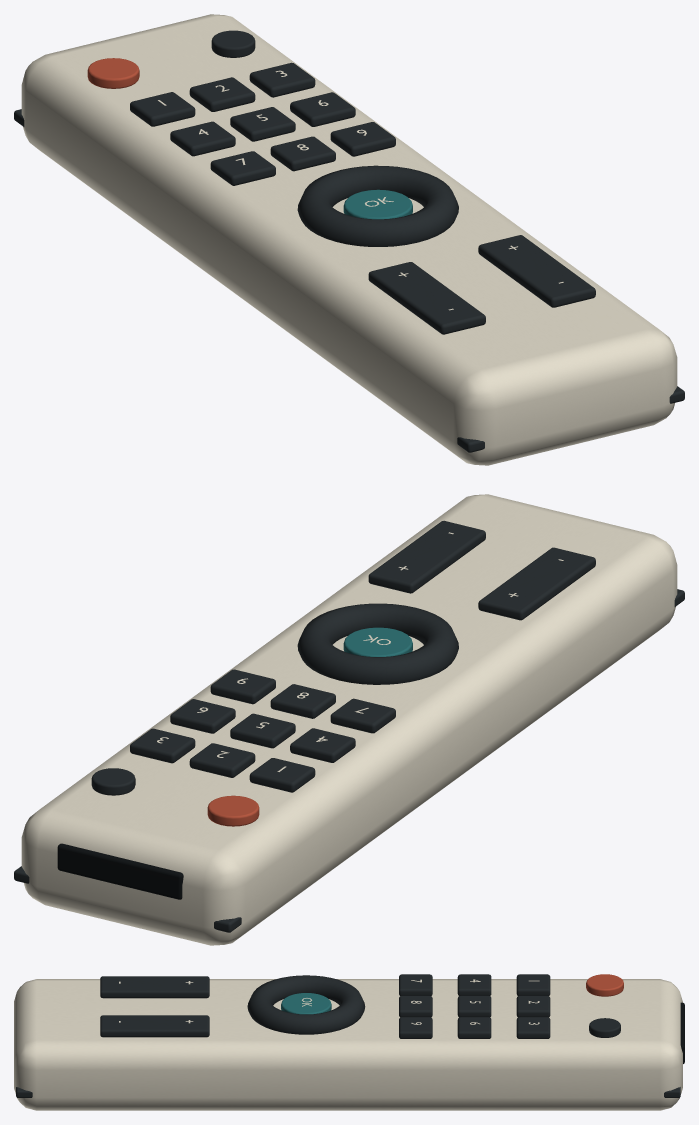
File: remote_01.glb
The picture shows the model from 3 angles, top to bottom: view 1: azimuth 30°, elevation 25°; view 2: azimuth 150°, elevation 25°; view 3: azimuth 270°, elevation 25°; orthographic projection. The views are drawn at different scales.
Parts seen in each view (by area): view 1: remote_01; view 2: remote_01; view 3: remote_01.
Part boxes in pixels (x1=…): remote_01: x1=14, y1=14, x2=684, y2=465; remote_01: x1=14, y1=494, x2=684, y2=945; remote_01: x1=14, y1=974, x2=684, y2=1110.
Bounding box in the file's own units: 0.044 × 0.022 × 0.1595.
5 materials, 5 textured.
